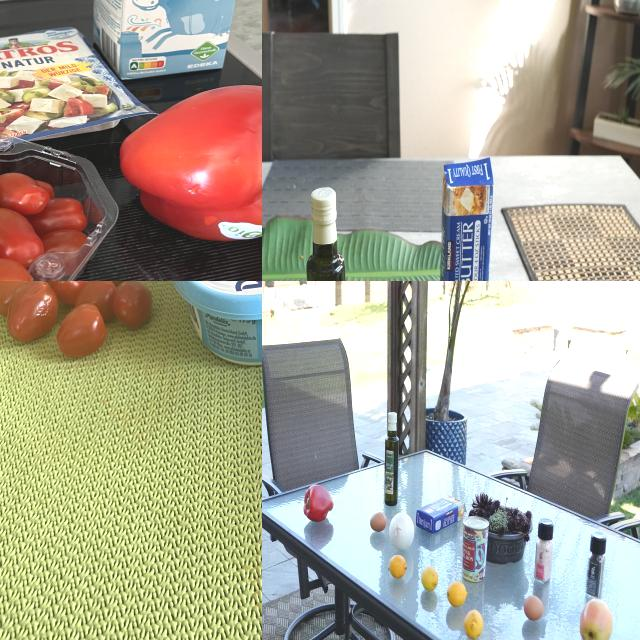bell_pepper: (129, 79, 263, 245), (583, 531, 612, 603), (303, 485, 337, 523)
egg: (523, 593, 549, 625)
onion: (391, 511, 415, 553)
tomato: (1, 114, 148, 282), (1, 282, 158, 387)
